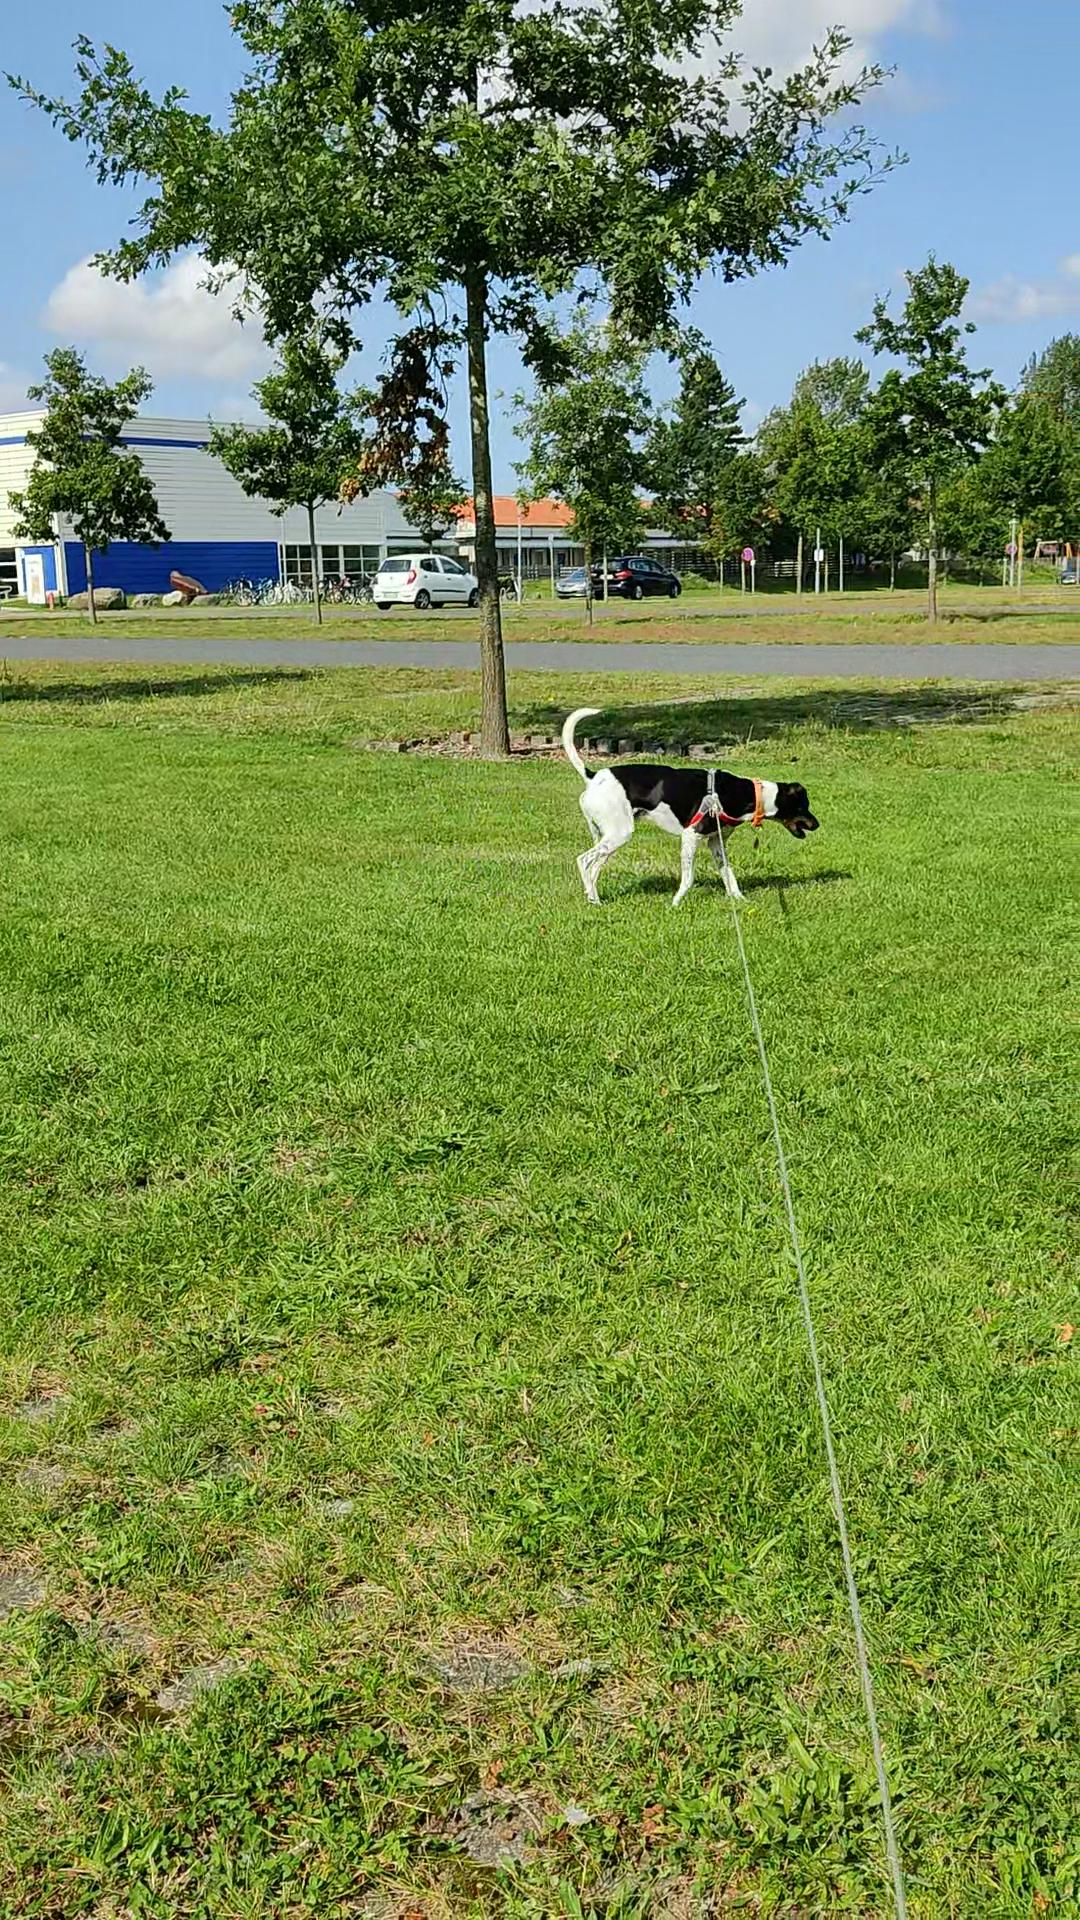Dog: (554, 703, 823, 905)
